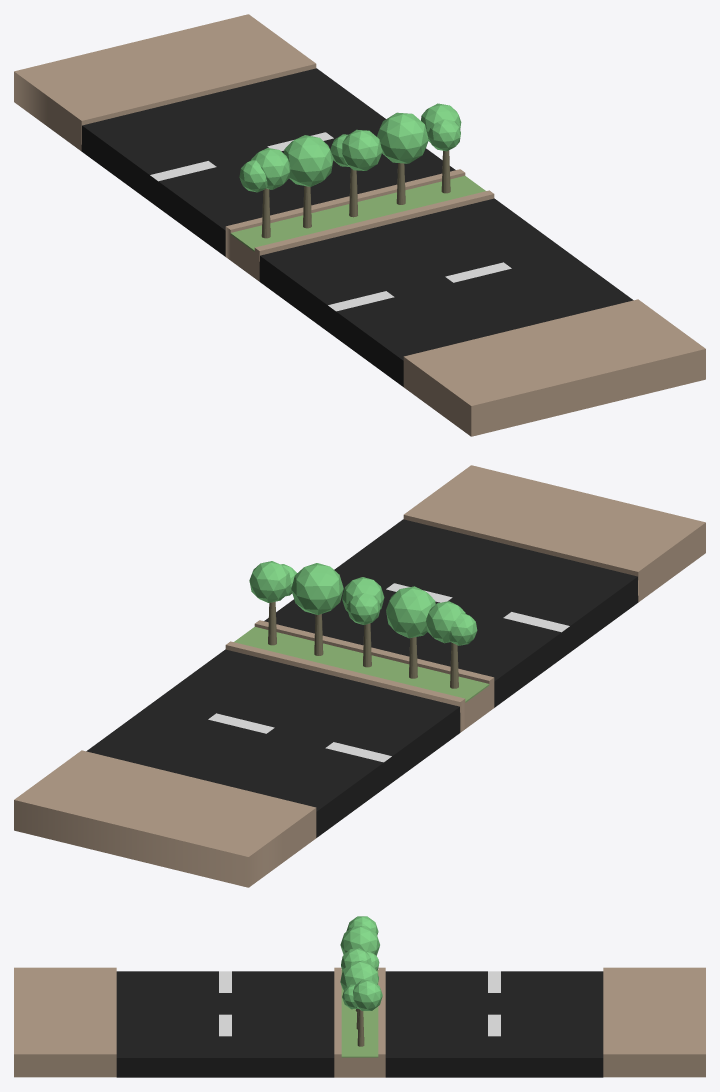
The model's file is road_avenue.fbx.
The picture shows the model from 3 angles, top to bottom: view 1: azimuth 30°, elevation 25°; view 2: azimuth 150°, elevation 25°; view 3: azimuth 270°, elevation 25°; orthographic projection. The views are drawn at different scales.
Parts seen in each view (by area): view 1: Cube.000; view 2: Cube.000; view 3: Cube.000.
Part boxes in pixels (x1,y1,x2,y2): Cube.000: (14, 14, 705, 436); Cube.000: (14, 465, 705, 887); Cube.000: (14, 916, 705, 1077).
Size of the model in its own units: 1602 by 757 by 5400.
